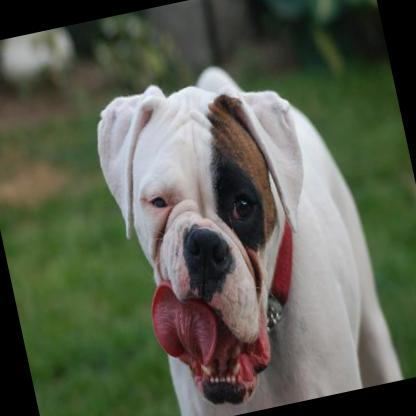boxer: (81, 32, 400, 416)
